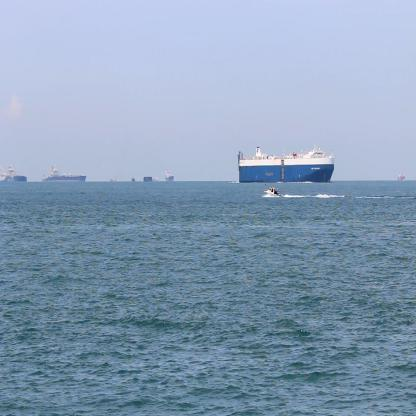Container Ship: (237, 141, 336, 188), (48, 164, 88, 183), (0, 164, 30, 183), (164, 166, 176, 183), (40, 171, 48, 183)
